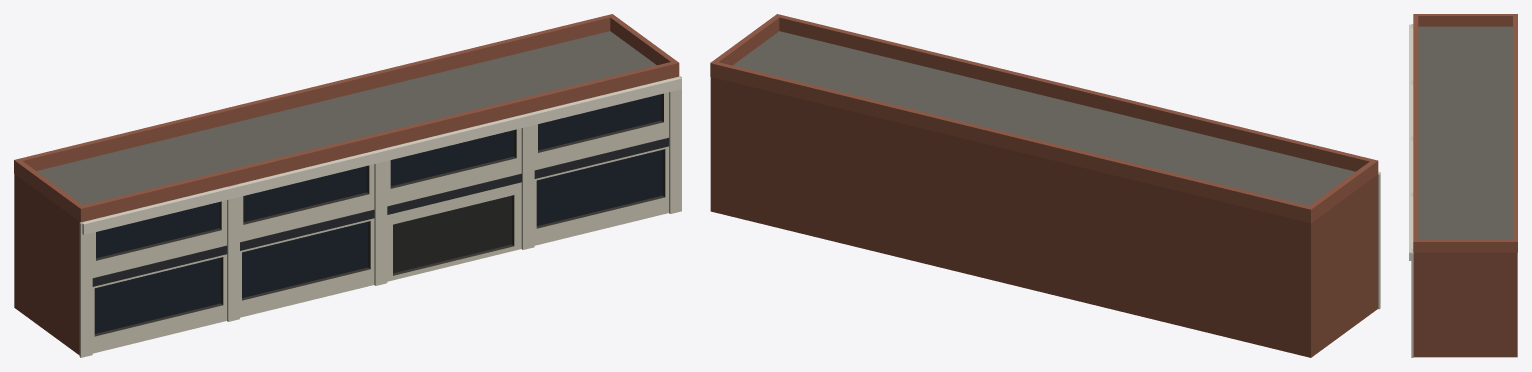
The model's file is bank-1913-b13765.glb.
The picture shows the model from 3 angles, left to right: view 1: azimuth 30°, elevation 25°; view 2: azimuth 150°, elevation 25°; view 3: azimuth 270°, elevation 25°; orthographic projection. The views are drawn at different scales.
Visible parts, largest first — view 1: kit-bank-1913-b13765; view 2: kit-bank-1913-b13765; view 3: kit-bank-1913-b13765.
Part boxes in pixels (x1=…): kit-bank-1913-b13765: x1=14, y1=14, x2=681, y2=357; kit-bank-1913-b13765: x1=710, y1=14, x2=1380, y2=357; kit-bank-1913-b13765: x1=1409, y1=14, x2=1517, y2=357.
Size of the model in its own units: 41.7 by 9.8 by 8.37.
